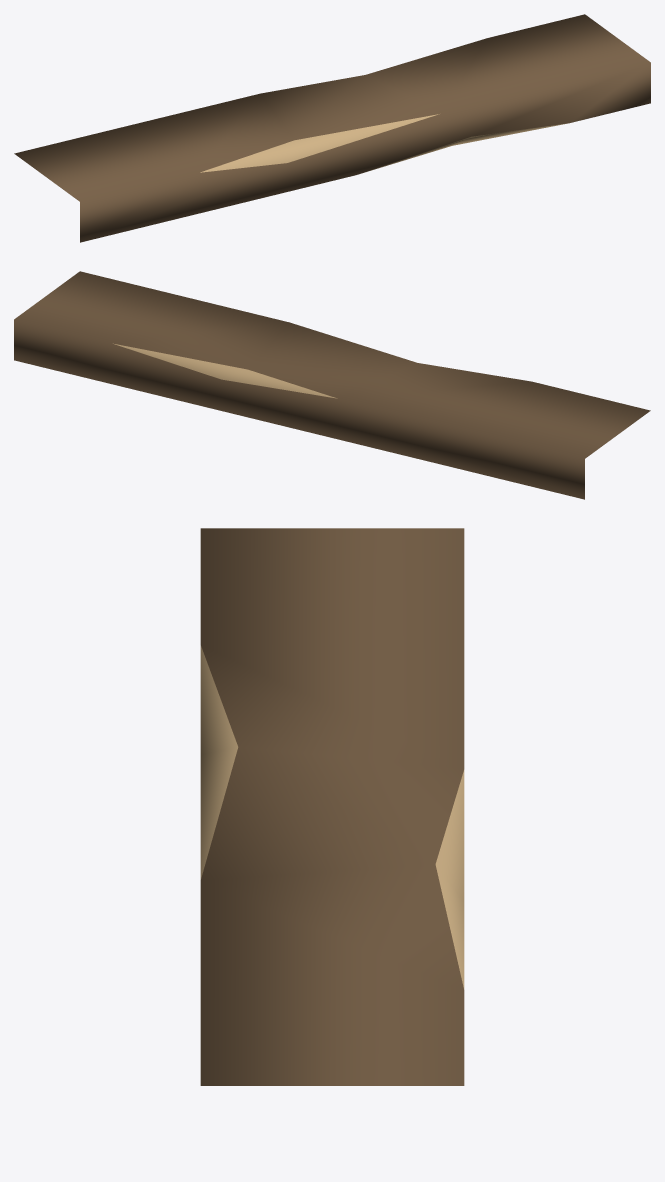
The model's file is rpgpp_av_wall_connector_bottom_01a_3m.gltf.
The picture shows the model from 3 angles, top to bottom: view 1: azimuth 30°, elevation 25°; view 2: azimuth 150°, elevation 25°; view 3: azimuth 270°, elevation 25°; orthographic projection. The views are drawn at different scales.
Parts seen in each view (by area): view 1: rpgpp_av_wall_connector_bottom_01a_3m; view 2: rpgpp_av_wall_connector_bottom_01a_3m; view 3: rpgpp_av_wall_connector_bottom_01a_3m.
Boxes of the visible parts, x1,y1,x2,y2 form: rpgpp_av_wall_connector_bottom_01a_3m: (14,14,650,242); rpgpp_av_wall_connector_bottom_01a_3m: (14,271,650,499); rpgpp_av_wall_connector_bottom_01a_3m: (200,528,464,1085).
Size of the model in its own units: 0.03 by 0.00205 by 0.006.
1 material, 1 textured.
